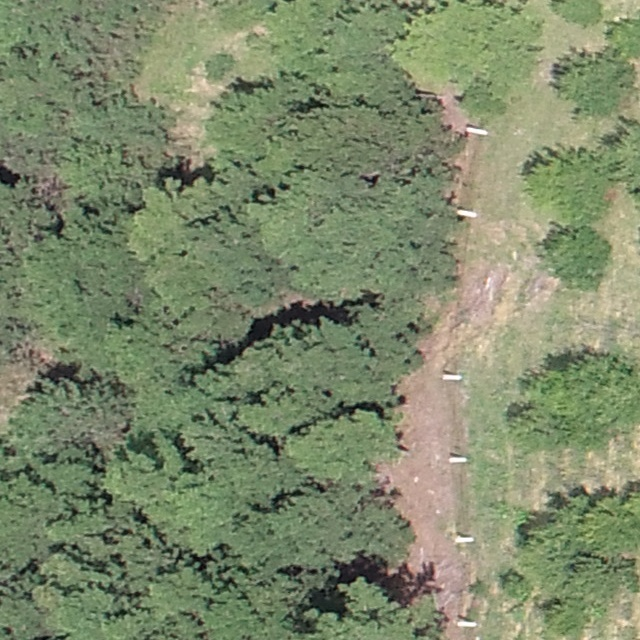unhealthy: (12, 334, 60, 377), (31, 170, 67, 209)
